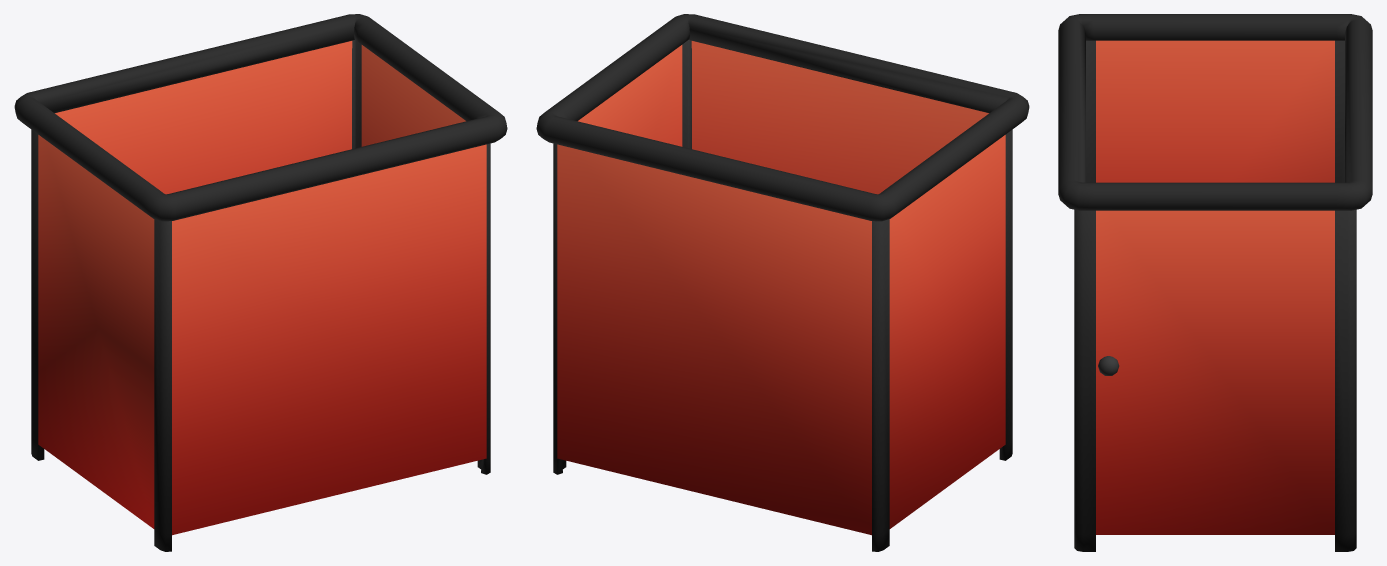
The model's file is SM_cabin.fbx.
3 views of the same model, side by side, from view 1: azimuth 30°, elevation 25°; view 2: azimuth 150°, elevation 25°; view 3: azimuth 270°, elevation 25° (orthographic). The views are drawn at different scales.
Parts seen in each view (by area): view 1: Cube.006; view 2: Cube.006; view 3: Cube.006.
Boxes of the visible parts, box(x1,y1,x2,y2) form: Cube.006: box(14, 14, 507, 551); Cube.006: box(536, 14, 1029, 551); Cube.006: box(1058, 14, 1372, 551).
Size of the model in its own units: 269 by 257 by 198.
